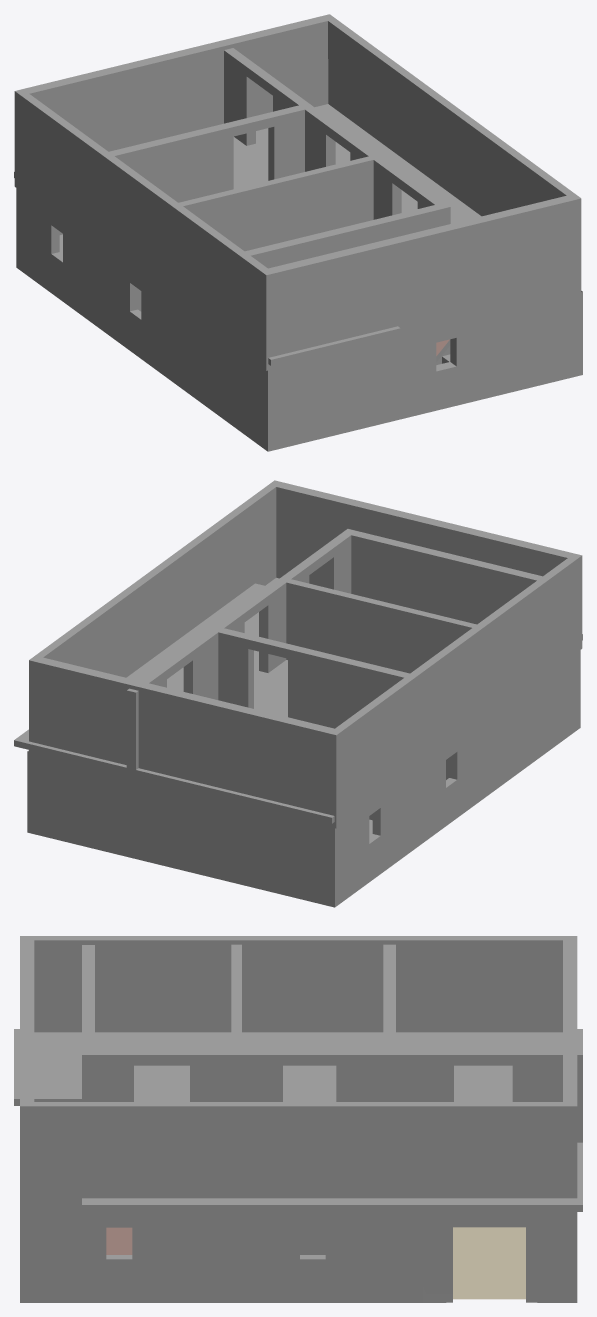
File: House_1.fbx
The picture shows the model from 3 angles, top to bottom: view 1: azimuth 30°, elevation 25°; view 2: azimuth 150°, elevation 25°; view 3: azimuth 270°, elevation 25°; orthographic projection. The views are drawn at different scales.
Visible parts, largest first — view 1: polySurface2, polySurface1, pCube25; view 2: polySurface2, pCube25, polySurface1; view 3: polySurface2, pCube25, polySurface1, pPlane3, pPlane5.
Part boxes in pixels (left/top/right/bottom): polySurface2: left=14, top=14, right=581, bottom=370; polySurface1: left=16, top=188, right=582, bottom=451; pCube25: left=14, top=48, right=481, bottom=365; polySurface2: left=29, top=480, right=582, bottom=828; pCube25: left=14, top=529, right=582, bottom=823; polySurface1: left=27, top=650, right=580, bottom=907; polySurface2: left=20, top=936, right=577, bottom=1210; pCube25: left=14, top=944, right=582, bottom=1211; polySurface1: left=20, top=1211, right=577, bottom=1302; pPlane3: left=453, top=1227, right=525, bottom=1299; pPlane5: left=106, top=1227, right=132, bottom=1254.
Size of the model in its own units: 14.52 by 8.23 by 19.72.
